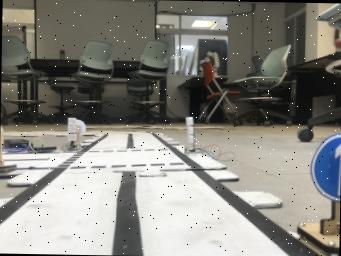forward: (297, 133, 341, 256)
street: (0, 131, 291, 256)
traffic_light: (184, 116, 204, 155), (63, 117, 80, 150)
